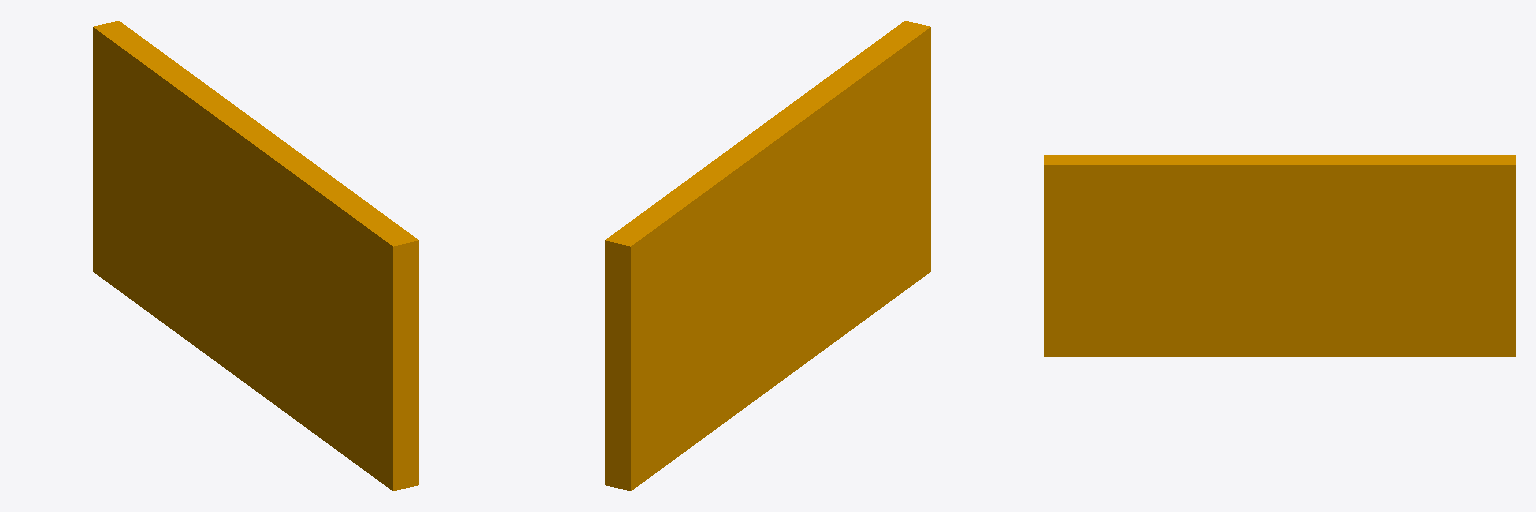
robot.urdf — skew_box:
<robot name="skew_box">
    <!-- control -->
    <link name="box1">
        <inertial>
            <mass value="0"/>
            <inertia ixx="0" ixy="0" ixz="0" iyy="0" iyz="0" izz="0"/>
        </inertial>
        <visual>
            <origin xyz="0 0 0" rpy="0 0 0"/>
            <geometry>
                <box size="0.01 0.2 0.09"/>
            </geometry>
        </visual>
        <collision>
            <origin xyz="0 0 0" rpy="0 0 0"/>
            <geometry>
                <box size="0.01 0.2 0.09"/>
            </geometry>
        </collision>
    </link>
</robot>

--- What the picture shows (computed from the rendered views, not written in the file) ---
Views: 3 orthographic renders of the robot side by side, from view 1: azimuth 30°, elevation 25°; view 2: azimuth 150°, elevation 25°; view 3: azimuth 270°, elevation 25°.
Model skew_box with 1 links and 0 joints (none), rooted at box1, posed all joints at 0.
Links seen in each view (by area): view 1: box1; view 2: box1; view 3: box1.
Link boxes in pixels (box(x1,y1,x2,y2)): box1: box(93, 21, 418, 490); box1: box(605, 21, 930, 490); box1: box(1044, 155, 1515, 356).
Bounding box of the posed robot: 0.01 × 0.2 × 0.09 m (x, y, z).
Geometry: primitives only (box / cylinder / sphere), no mesh files.